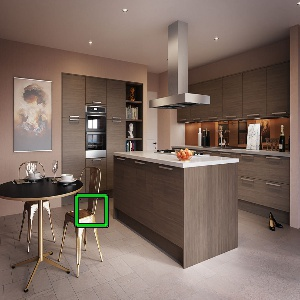square: (73, 192, 109, 228)
